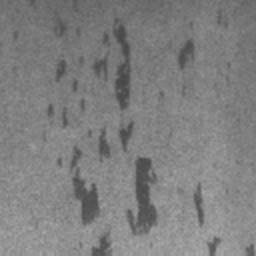Red iron sheet: (56, 122, 160, 256), (88, 19, 133, 111), (46, 59, 87, 129), (192, 182, 221, 256), (175, 38, 196, 70), (54, 14, 70, 37), (246, 243, 256, 256)
